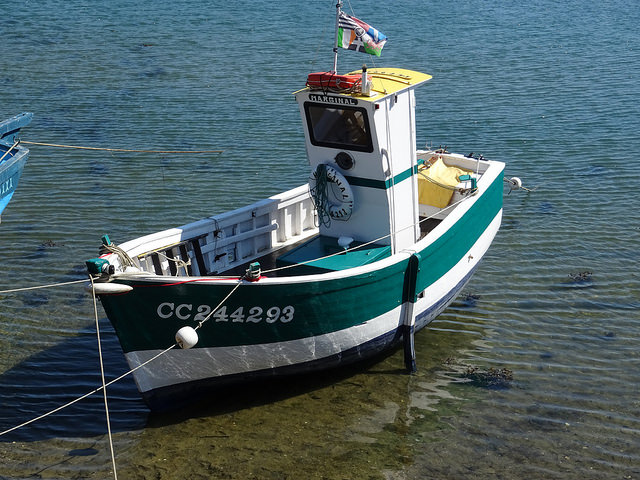fishing_boat: (83, 14, 507, 405)
